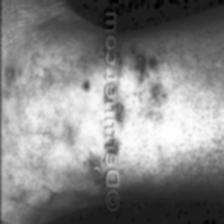Non-Cancerous Skin Condition: (120, 48, 166, 166), (7, 56, 38, 120), (69, 148, 101, 188), (66, 61, 89, 110)
